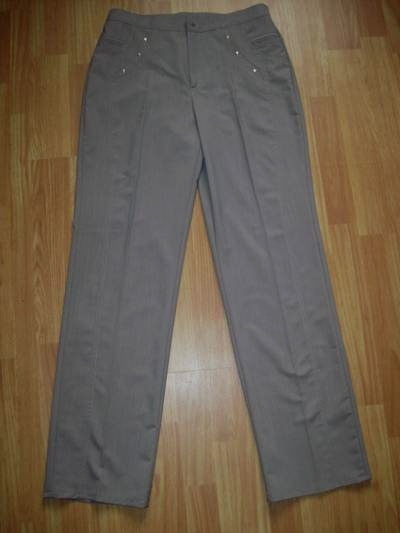Pants: (27, 17, 371, 511)
